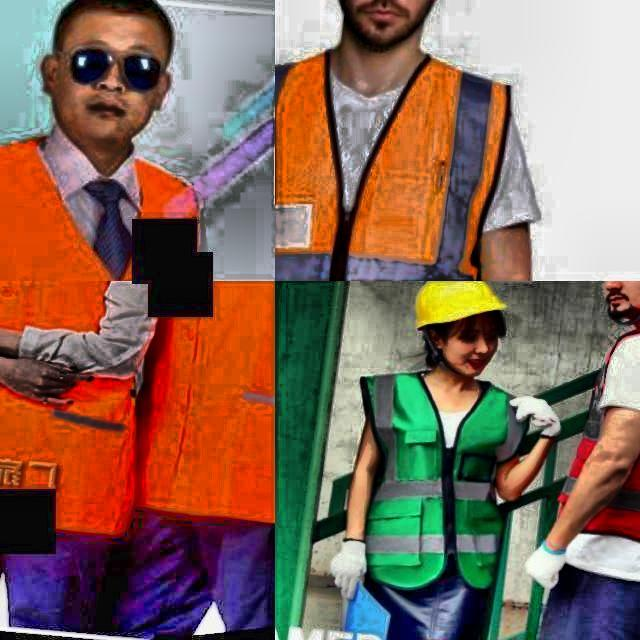safety_jacket: (275, 37, 537, 281), (328, 368, 525, 604), (93, 281, 275, 531), (0, 281, 162, 545), (0, 132, 250, 281), (573, 341, 640, 573)
